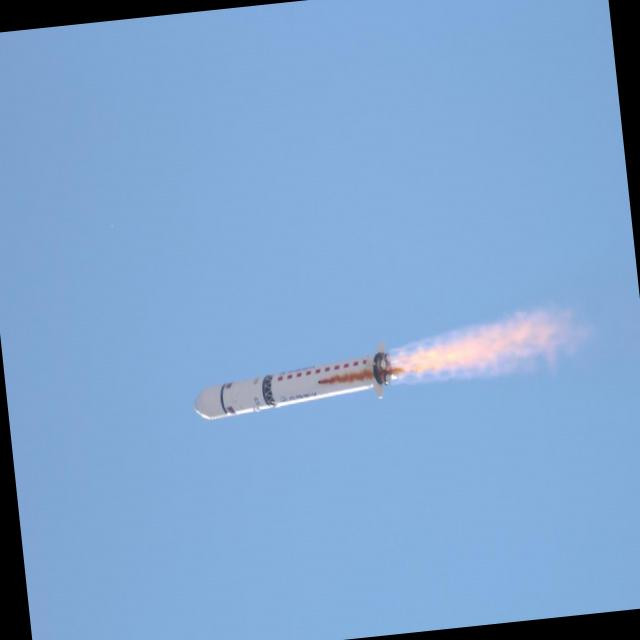rocket: (194, 326, 522, 420)
